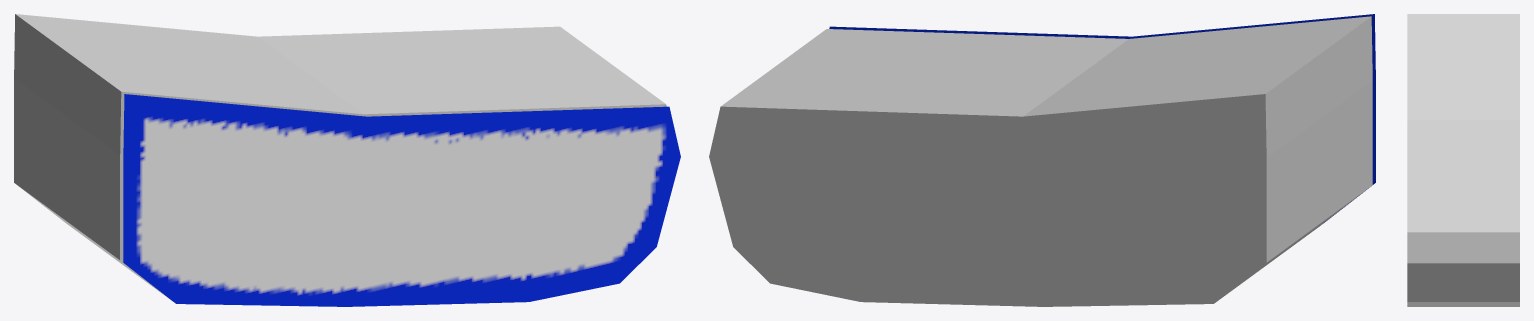
3 renders of one model, left to right at view 1: azimuth 30°, elevation 25°; view 2: azimuth 150°, elevation 25°; view 3: azimuth 270°, elevation 25°, orthographic. The views are drawn at different scales.
Visible parts, largest first — view 1: In_7_1, In_7_0; view 2: In_7_0, In_7_1; view 3: In_7_0.
Part boxes in pixels (x1,y1,x2,y2): In_7_1: [123, 94, 680, 306]; In_7_0: [14, 14, 666, 301]; In_7_0: [709, 16, 1372, 306]; In_7_1: [829, 14, 1375, 222]; In_7_0: [1407, 14, 1519, 306].
Bounding box in the file's own units: 1.52 × 0.8069 × 0.515.
2 materials, 1 textured.
